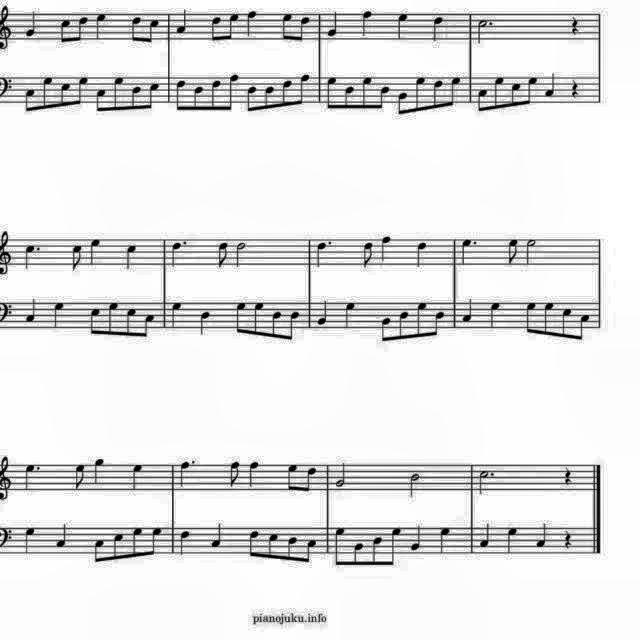Eighth-note: (226, 72, 242, 116), (388, 524, 404, 568), (38, 72, 56, 111), (250, 298, 266, 338), (414, 299, 430, 339), (540, 298, 556, 338), (110, 74, 126, 114), (412, 75, 428, 115), (333, 526, 349, 566), (67, 240, 85, 274), (208, 77, 224, 115), (104, 300, 120, 338), (130, 522, 146, 558), (124, 304, 140, 340), (522, 299, 538, 335), (232, 300, 248, 336), (358, 73, 374, 109), (298, 72, 314, 108), (491, 74, 507, 110), (358, 238, 376, 270), (71, 462, 89, 493), (74, 75, 90, 109), (448, 76, 464, 110), (370, 533, 386, 567), (558, 304, 574, 338), (286, 308, 302, 342), (323, 76, 339, 110), (278, 9, 294, 43), (148, 524, 164, 558), (213, 238, 230, 270), (227, 460, 245, 490), (266, 530, 282, 562), (110, 529, 126, 561), (284, 534, 300, 566), (269, 308, 285, 340), (58, 80, 74, 112), (246, 526, 262, 558), (146, 78, 162, 110), (244, 84, 260, 116), (88, 306, 104, 338), (128, 12, 144, 44), (283, 463, 299, 495), (296, 12, 312, 44), (576, 310, 592, 342), (224, 10, 240, 42), (176, 76, 190, 112), (190, 84, 206, 114), (89, 536, 105, 566), (146, 17, 162, 47), (378, 314, 394, 344), (506, 236, 522, 266), (58, 15, 74, 45), (304, 465, 320, 495), (74, 12, 90, 42), (208, 12, 224, 42), (22, 85, 38, 115), (430, 78, 444, 112), (396, 307, 410, 341), (94, 86, 110, 115), (394, 89, 410, 118), (142, 312, 158, 341), (280, 78, 294, 110), (376, 84, 392, 112), (304, 536, 320, 564), (350, 540, 366, 568), (525, 76, 539, 108), (432, 306, 446, 338), (476, 86, 492, 114), (264, 84, 278, 112), (510, 82, 524, 110), (130, 84, 144, 112), (343, 85, 357, 112)
Half-dot: (475, 16, 497, 48), (476, 467, 498, 497)
Half-note: (233, 238, 250, 268), (524, 235, 540, 265), (334, 462, 350, 491), (408, 471, 424, 499)
Quarter-dot: (166, 233, 194, 271), (21, 241, 44, 273), (178, 454, 198, 490), (312, 238, 334, 270), (18, 462, 40, 493), (460, 239, 482, 269)
Quarter-note: (379, 229, 397, 267), (314, 296, 334, 328), (428, 13, 448, 44), (122, 241, 142, 271), (412, 238, 432, 268), (178, 526, 196, 558), (23, 7, 41, 39), (357, 6, 375, 38), (20, 526, 38, 558), (87, 234, 105, 266), (243, 8, 260, 40), (54, 520, 72, 550), (208, 519, 226, 549), (173, 7, 191, 37), (323, 9, 341, 39), (393, 9, 411, 39), (459, 296, 477, 326), (341, 301, 359, 331), (487, 300, 505, 330), (128, 461, 146, 491), (94, 11, 110, 43), (197, 308, 215, 336), (534, 520, 550, 550), (438, 524, 454, 554), (408, 523, 424, 553), (504, 524, 520, 554), (168, 300, 184, 330), (246, 458, 262, 488), (478, 521, 494, 549), (24, 296, 40, 324), (52, 298, 68, 326), (92, 454, 106, 486), (542, 72, 558, 98)
Quarter-rest: (560, 462, 576, 488), (566, 14, 582, 38), (560, 527, 576, 551), (568, 78, 582, 100)
